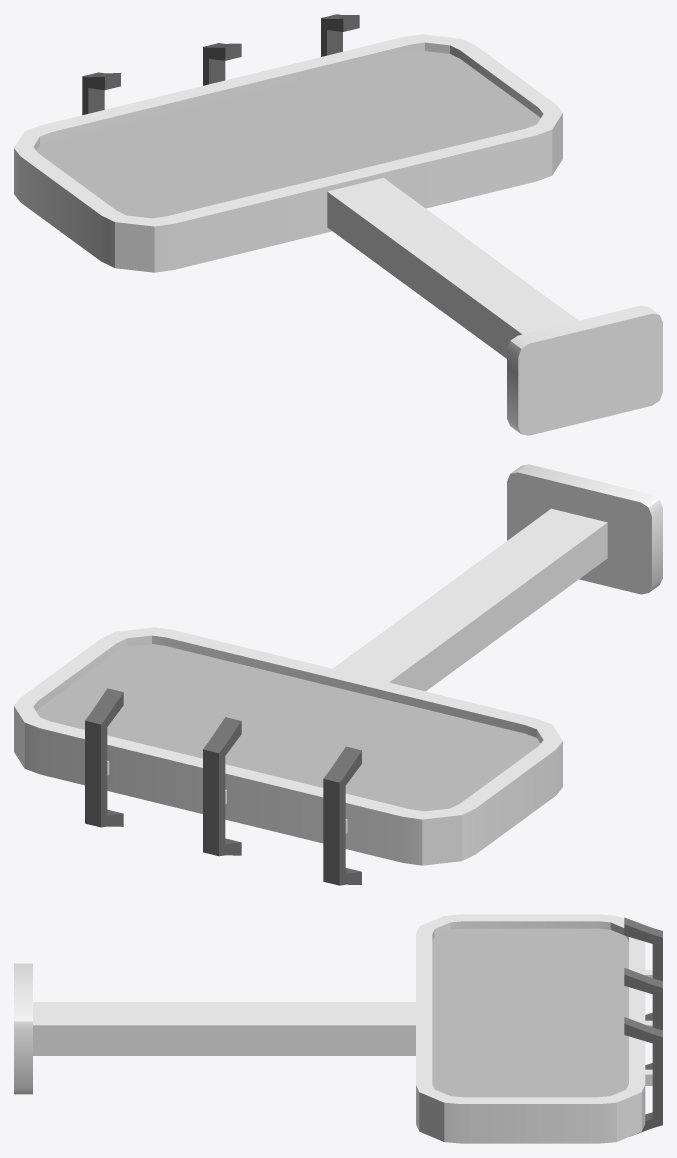
Rendered from P_Billboard01.fbx.
3 renders of one model, top to bottom at view 1: azimuth 30°, elevation 25°; view 2: azimuth 150°, elevation 25°; view 3: azimuth 270°, elevation 25°, orthographic. The views are drawn at different scales.
Parts seen in each view (by area): view 1: Ad_Billboard01; view 2: Ad_Billboard01; view 3: Ad_Billboard01.
Part boxes in pixels (x1,y1,x2,y2): Ad_Billboard01: [14, 14, 662, 435]; Ad_Billboard01: [14, 464, 662, 885]; Ad_Billboard01: [14, 914, 662, 1143].
Size of the model in its own units: 528 by 149 by 764.
